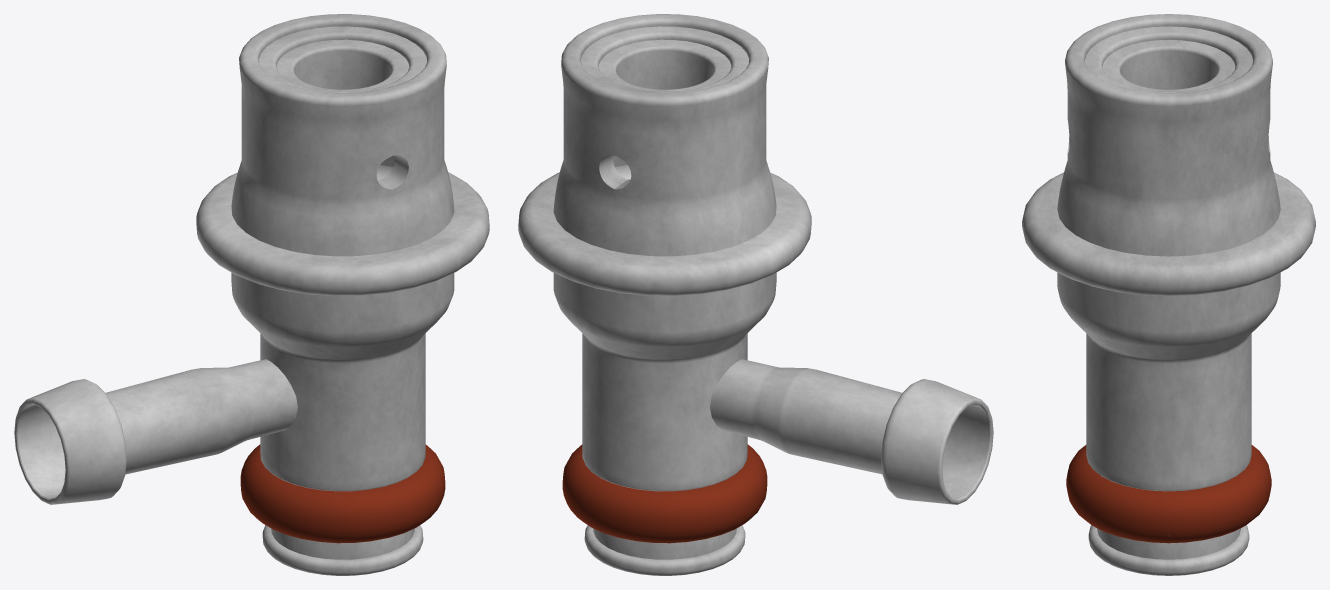
File: pressureRegulator.glb
The picture shows the model from 3 angles, left to right: view 1: azimuth 30°, elevation 25°; view 2: azimuth 150°, elevation 25°; view 3: azimuth 270°, elevation 25°; orthographic projection.
Visible parts, largest first — view 1: fuelPressureRegulator; view 2: fuelPressureRegulator; view 3: fuelPressureRegulator.
Part boxes in pixels (x1,y1,x2,y2): fuelPressureRegulator: (14, 14, 489, 575); fuelPressureRegulator: (518, 14, 993, 575); fuelPressureRegulator: (1022, 14, 1315, 575).
Bounding box in the file's own units: 1.19 × 1.29 × 0.7065.
1 material, 1 textured.
